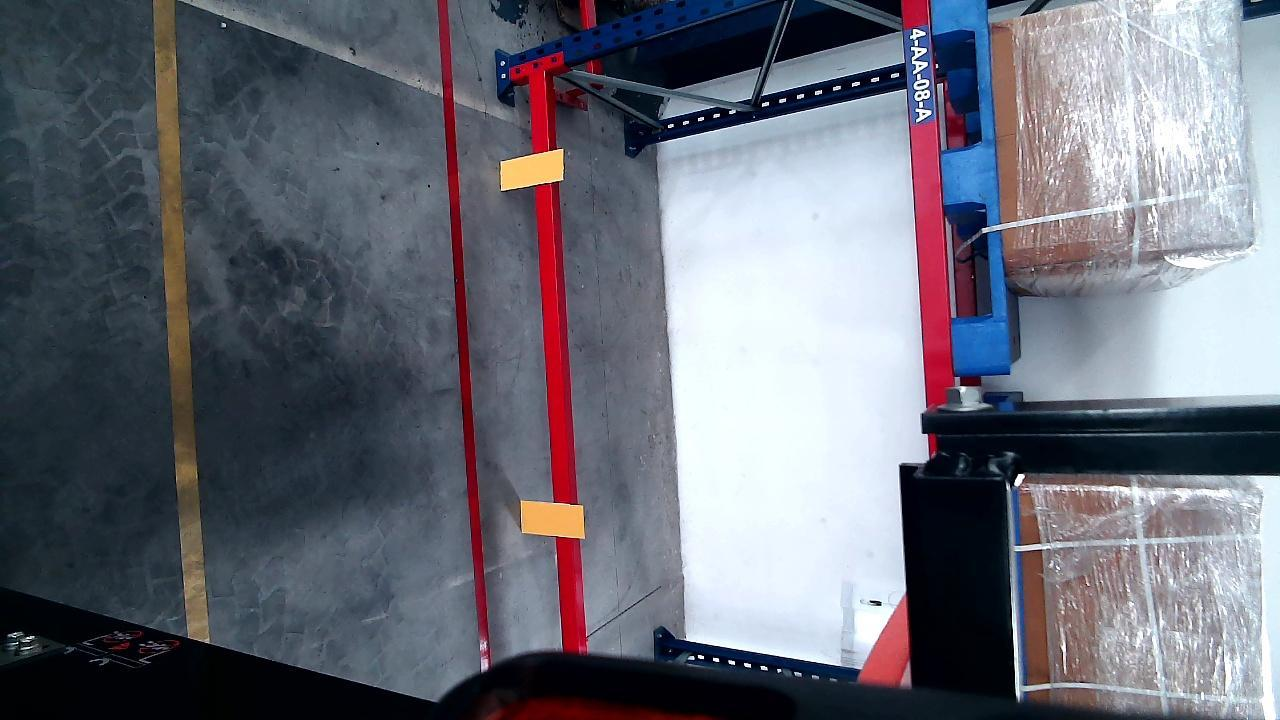red_line: (435, 1, 495, 675)
yellow_line: (154, 0, 207, 642)
